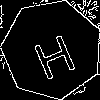H: (27, 24, 79, 81)
